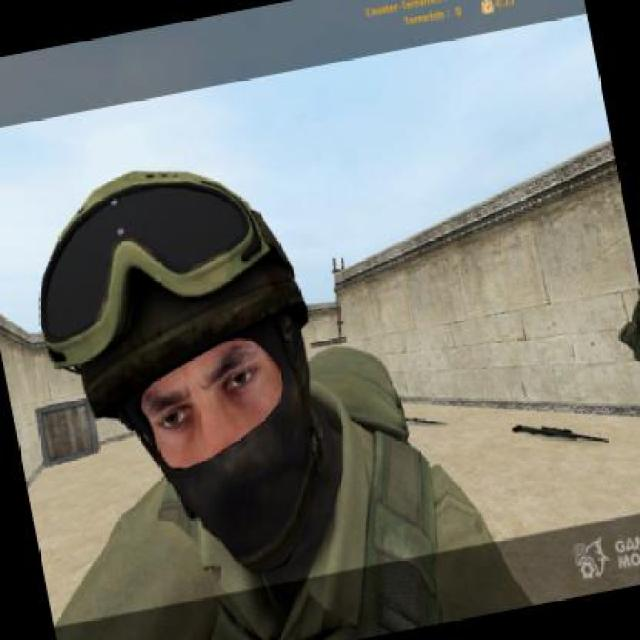MIL_Pax: (0, 111, 537, 638), (604, 277, 638, 560)
